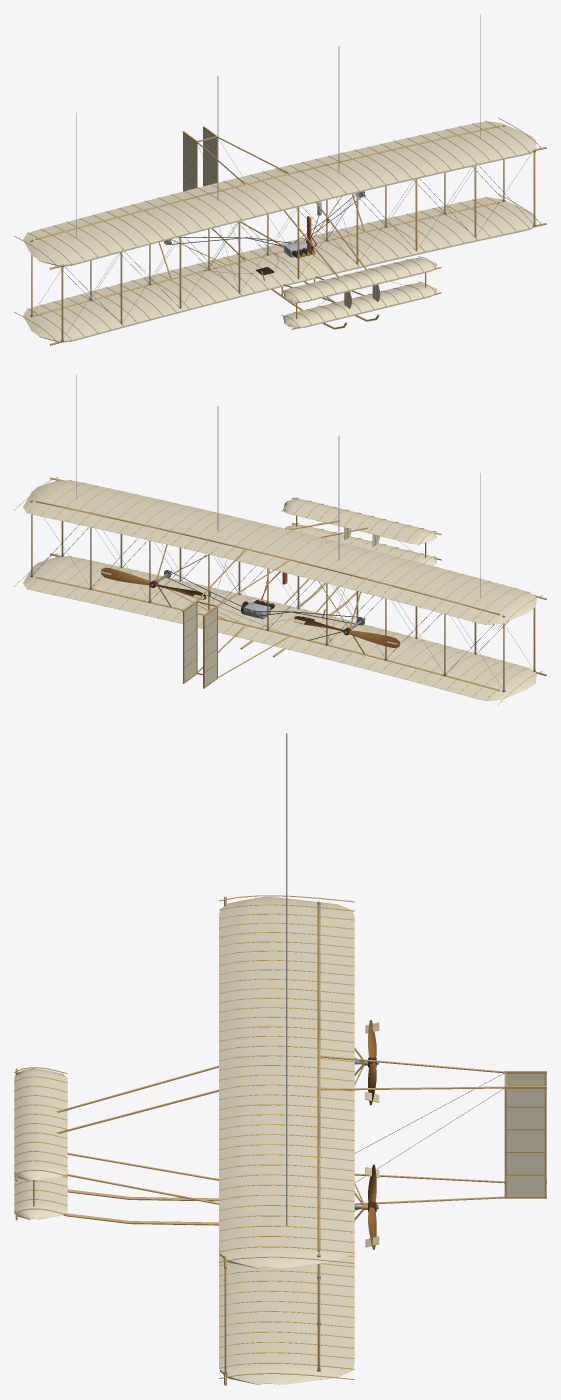
Rendered from wright_flyer.glb.
3 renders of one model, top to bottom at view 1: azimuth 30°, elevation 25°; view 2: azimuth 150°, elevation 25°; view 3: azimuth 270°, elevation 25°, orthographic. The views are drawn at different scales.
Visible parts, largest first — view 1: wright_flyer_static, canard_static, rudder_static; view 2: wright_flyer_static, canard_static, rudder_static, propL_static, propR_static, engine_static; view 3: wright_flyer_static, canard_static, rudder_static, propR_static, propL_static.
Boxes of the visible parts, x1,y1,x2,y2 form: wright_flyer_static: [14, 14, 546, 345]; canard_static: [281, 256, 441, 329]; rudder_static: [182, 126, 217, 191]; wright_flyer_static: [14, 374, 546, 704]; canard_static: [281, 497, 441, 565]; rudder_static: [182, 600, 217, 688]; propL_static: [293, 616, 400, 648]; propR_static: [100, 567, 207, 599]; engine_static: [241, 599, 274, 619]; wright_flyer_static: [56, 733, 504, 1385]; canard_static: [14, 1067, 67, 1220]; rudder_static: [504, 1071, 546, 1198]; propR_static: [365, 1164, 379, 1249]; propL_static: [365, 1020, 379, 1105].
Bounding box in the file's own units: 12.3 × 5.16 × 7.48.
12 materials, 6 textured.
